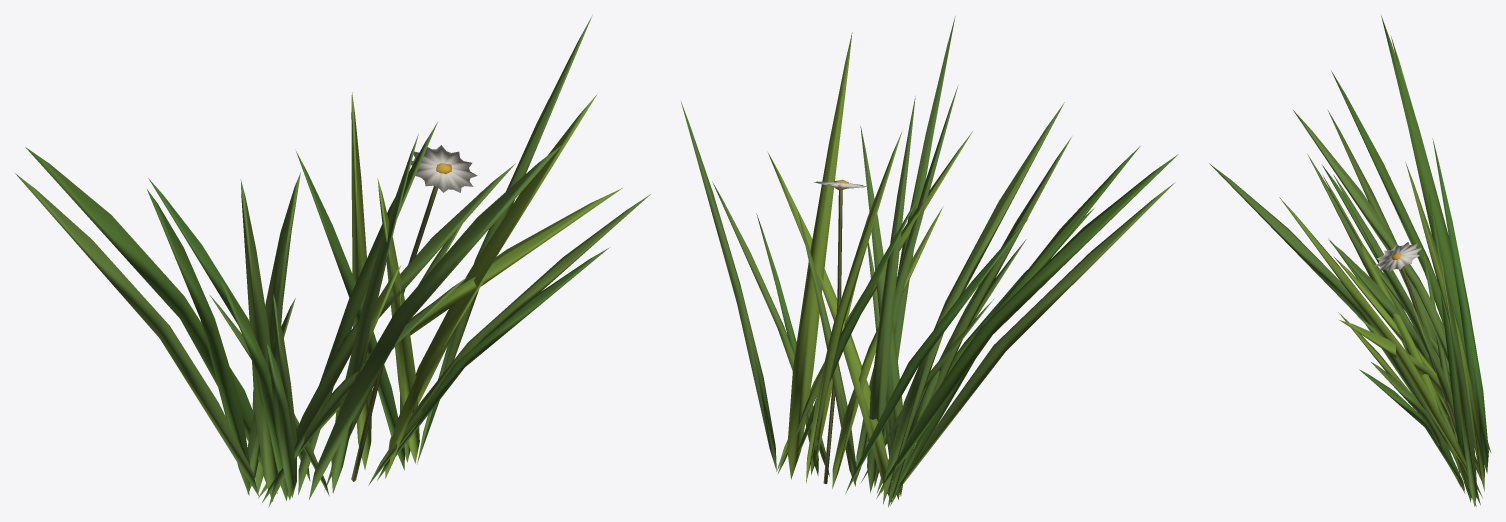
Rendered from walltuft_daisy.glb.
3 views of the same model, side by side, from view 1: azimuth 30°, elevation 25°; view 2: azimuth 150°, elevation 25°; view 3: azimuth 270°, elevation 25° (orthographic). The views are drawn at different scales.
Parts seen in each view (by area): view 1: Sammel Pflanze, Sammel Putz; view 2: Sammel Pflanze, Sammel Putz; view 3: Sammel Pflanze, Sammel Putz.
Boxes of the visible parts, x1=… form: Sammel Pflanze: x1=15, y1=15, x2=650, y2=507; Sammel Putz: x1=351, y1=186, x2=438, y2=481; Sammel Pflanze: x1=681, y1=16, x2=1178, y2=507; Sammel Putz: x1=823, y1=190, x2=842, y2=483; Sammel Pflanze: x1=1209, y1=15, x2=1490, y2=506; Sammel Putz: x1=1401, y1=266, x2=1457, y2=436.
Bounding box in the file's own units: 0.4499 × 0.3316 × 0.2525.
